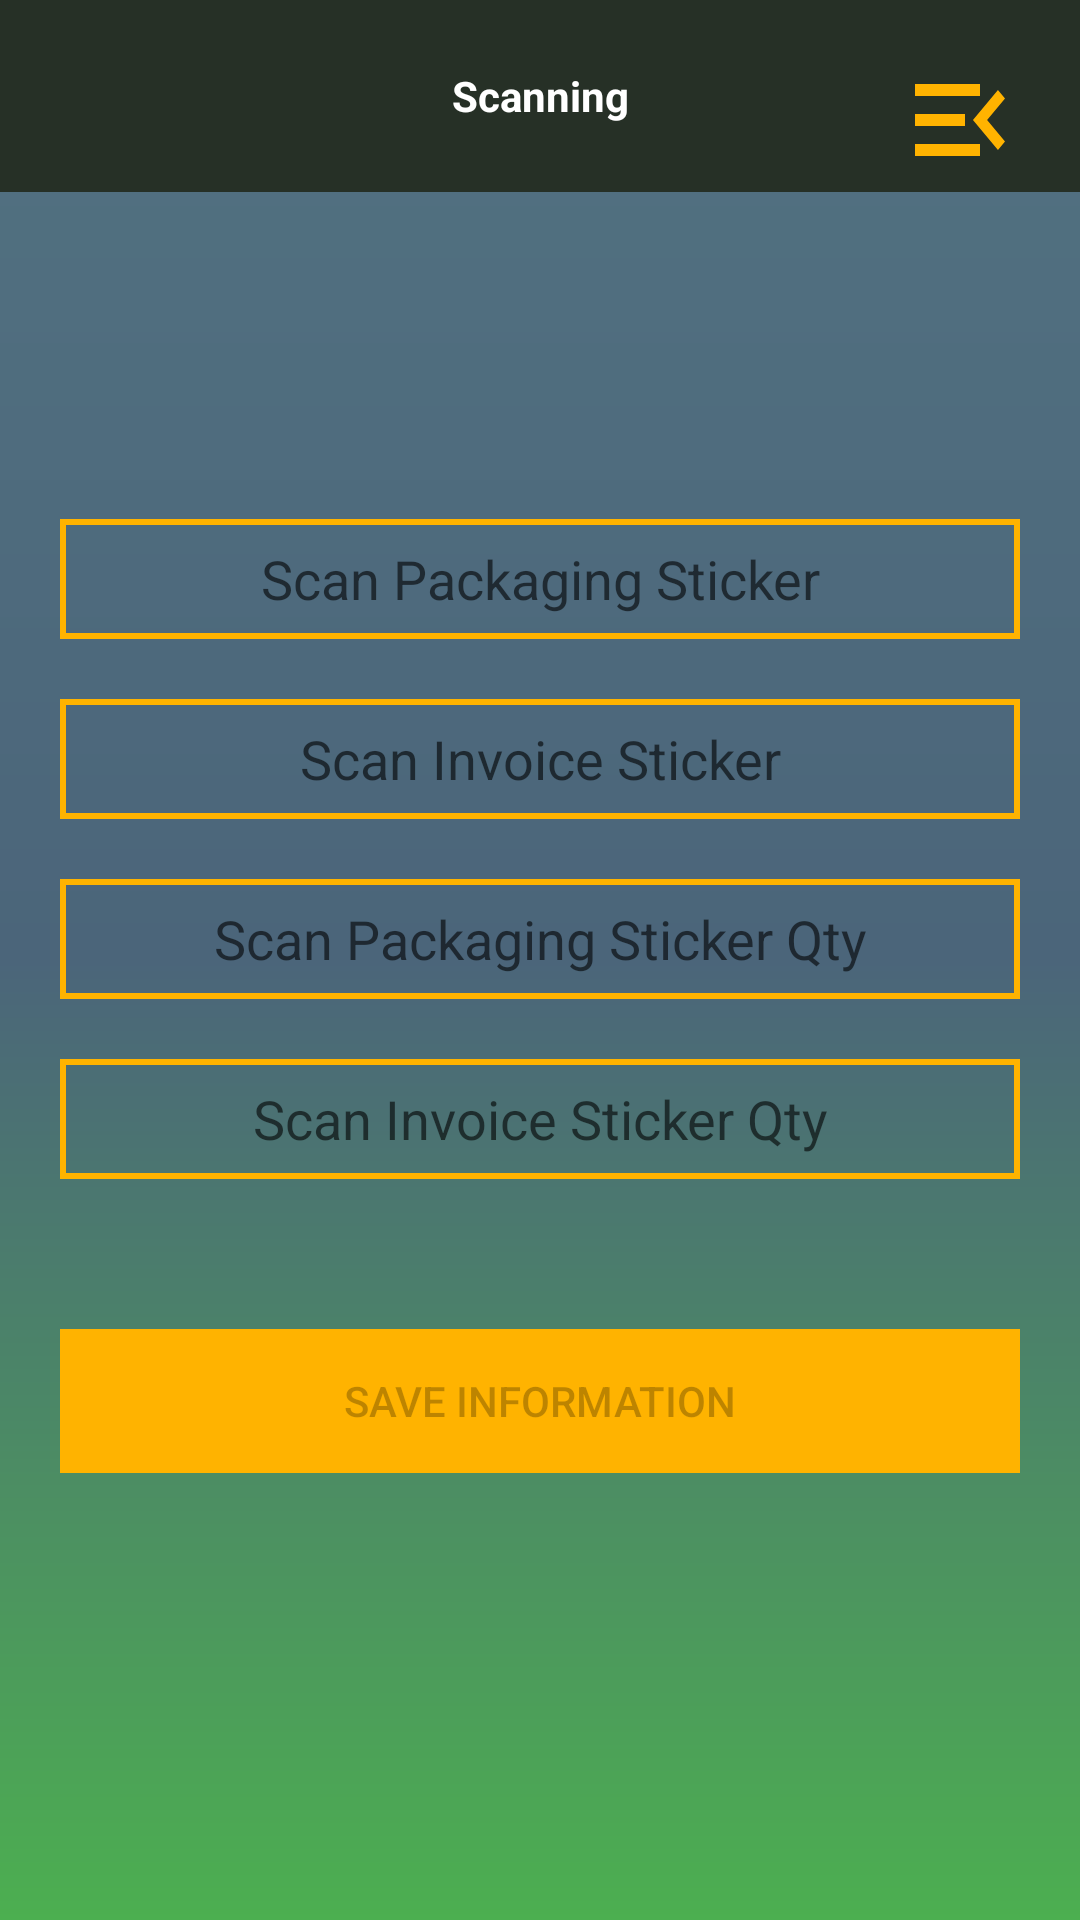

Icon bounding boxes for this 1080*1920 phone screenshot, format {"left": x1, "top": y1, "right": x2, "bottom": y2}:
open: {"left": 915, "top": 84, "right": 1005, "bottom": 156}
